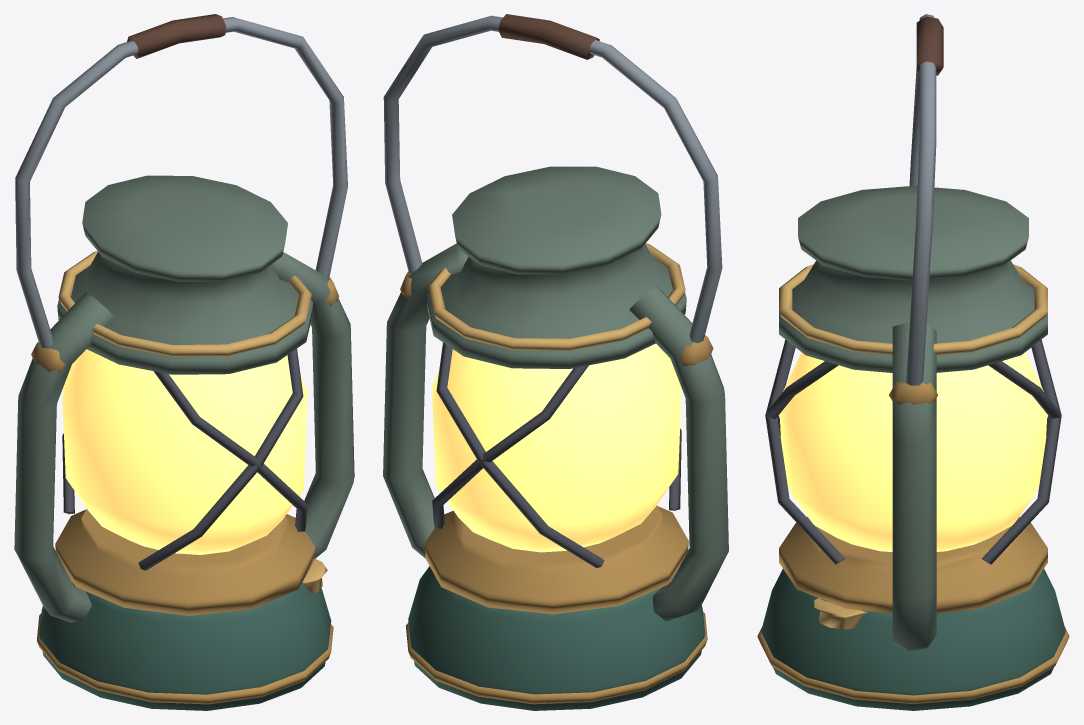
File: storm_lantern.glb
3 views of the same model, side by side, from view 1: azimuth 30°, elevation 25°; view 2: azimuth 150°, elevation 25°; view 3: azimuth 270°, elevation 25° (orthographic). The views are drawn at different scales.
Parts seen in each view (by area): view 1: storm_lantern; view 2: storm_lantern; view 3: storm_lantern.
Boxes of the visible parts, x1,y1,x2,y2 form: storm_lantern: [14, 14, 354, 710]; storm_lantern: [383, 14, 728, 710]; storm_lantern: [757, 14, 1069, 710].
Bounding box in the file's own units: 0.27 × 0.49 × 0.22.
